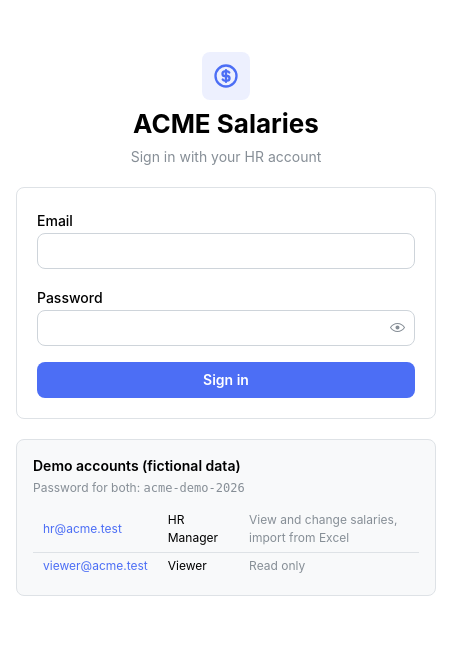
Test: sign-in › shows the server message when the password is wrong
The width and height of the screenshot is (453, 649).
Type "hr@acme.test" into the field labelled "Email" at (226, 251), box [37, 233, 415, 269]
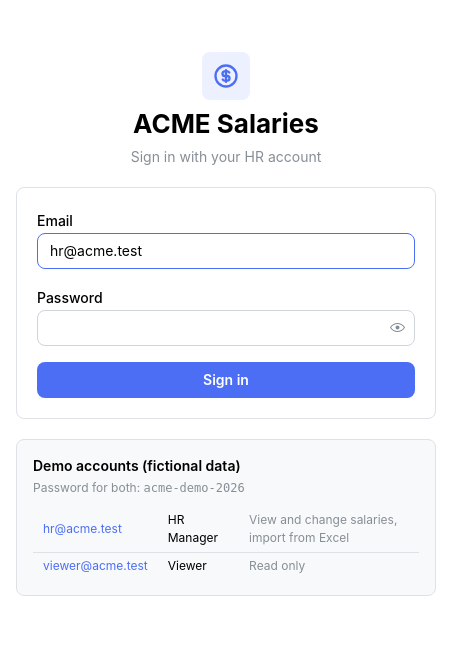
Type "nope" into the password field labelled "Password" at (226, 328), box [38, 310, 414, 344]
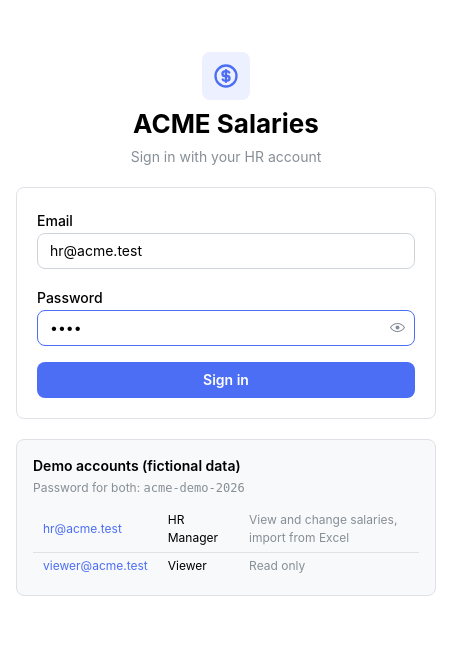
Click the button "Sign in" at (226, 380), box [37, 362, 415, 398]
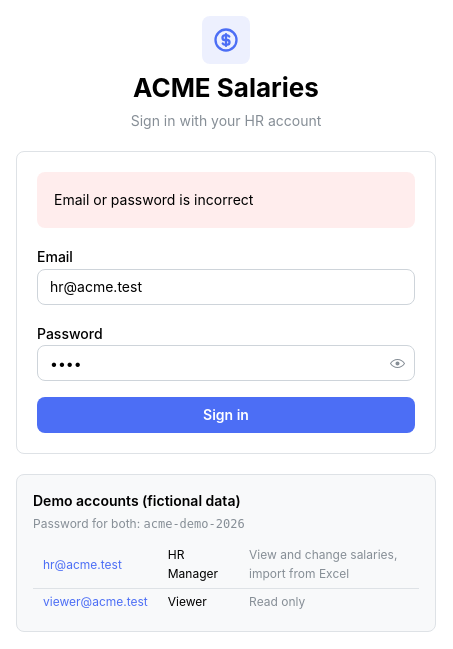
Result: the message reads "Email or password is incorrect" at [54, 191, 253, 208]
